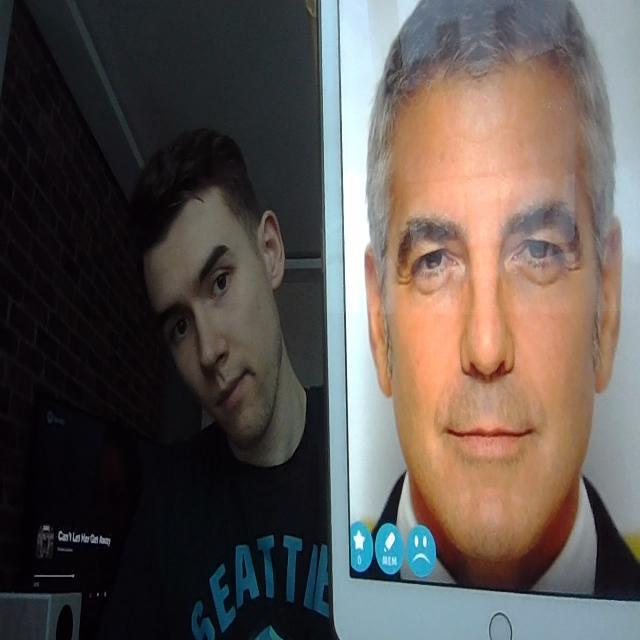device: (314, 1, 640, 640)
live: (142, 181, 286, 442)
